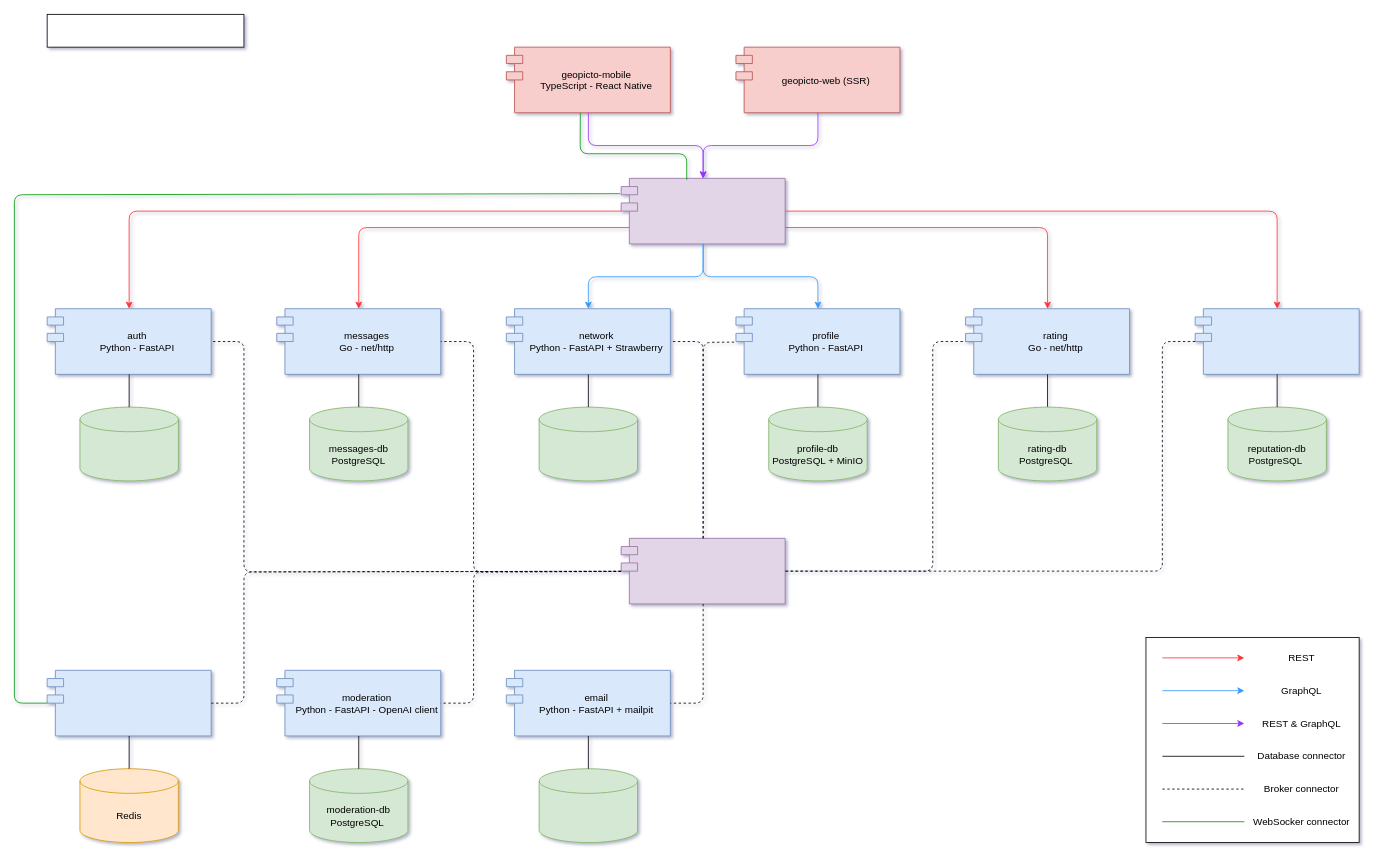
The diagram is 1378 pixels wide and 862 high, and some of its shapes have lost their labels. Each missing label, with the centre of its shape:
"api-gateway Java - Spring Cloud Gateway" belongs at point (702, 211).
"auth-db PostgresSQL" belongs at point (128, 443).
"broker RabbitMQ" belongs at point (702, 571).
"C&C view - Geopicto" belongs at point (145, 30).
"email-db PostgreSQL" belongs at point (588, 805).
"network-db MongoDB" belongs at point (588, 443).
"realtime Elixir" belongs at point (128, 703).
"reputation Go - net/http" belongs at point (1276, 341).
